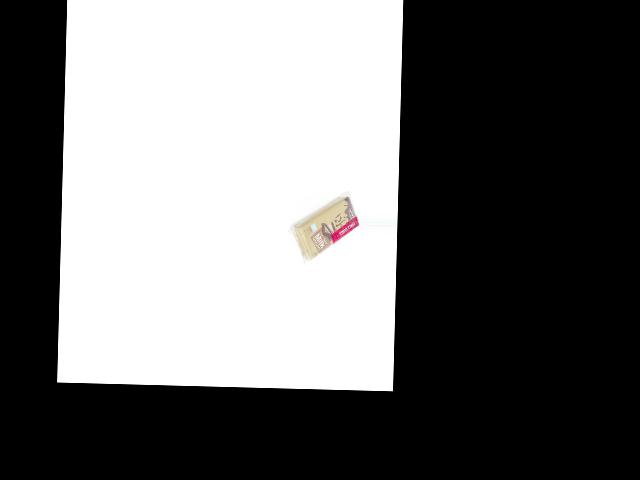chocolate: (290, 193, 358, 269)
